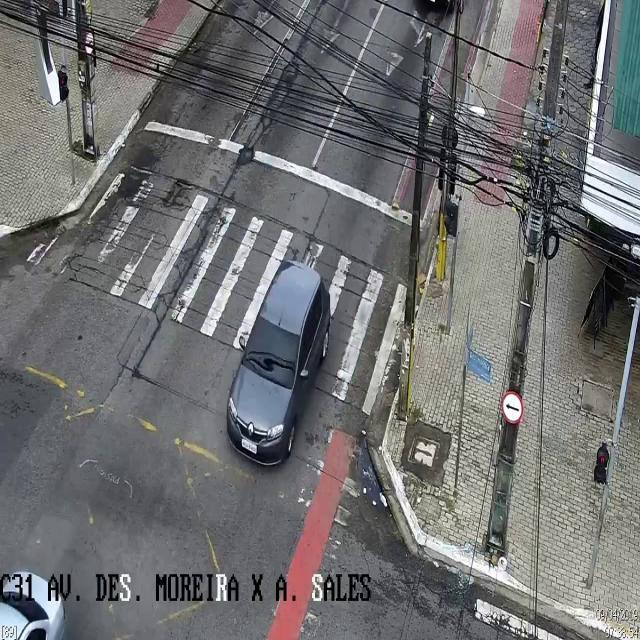Car: (224, 259, 330, 465)
